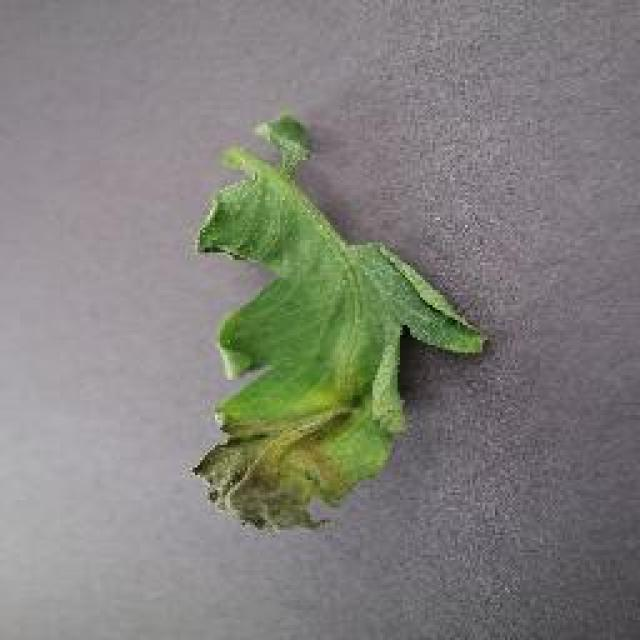Tomato_Late_Blight: (188, 308, 506, 541)
